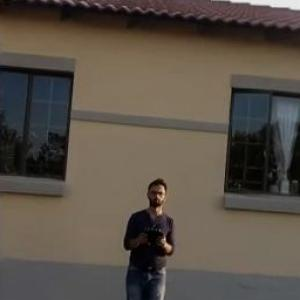follow: (117, 174, 181, 298)
